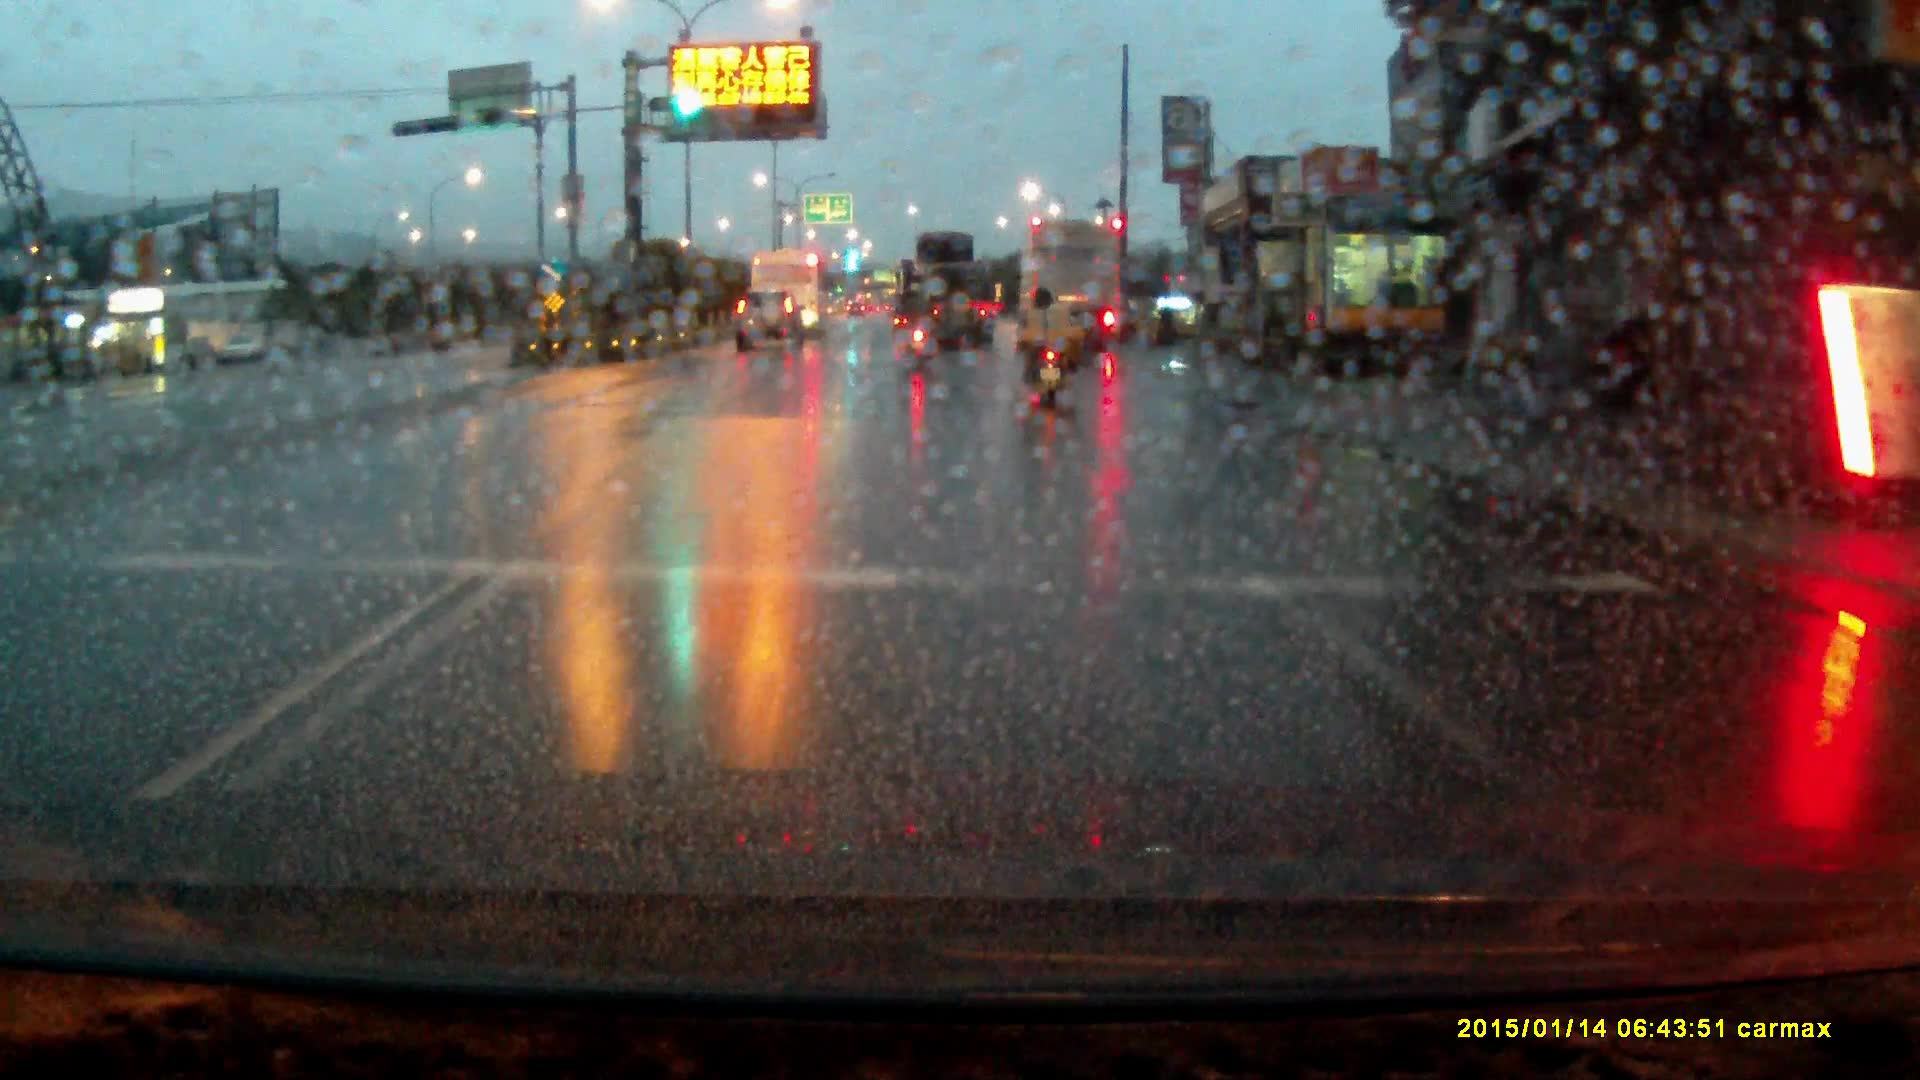rider: (1018, 287, 1085, 415), (902, 284, 939, 370)
vehicle: (1025, 219, 1123, 354), (899, 232, 996, 347), (755, 245, 830, 330), (732, 293, 807, 359)
